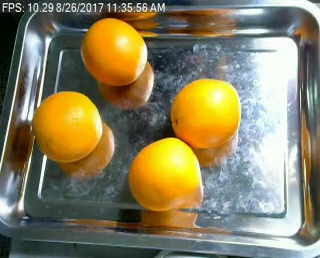Orange: (129, 138, 203, 210), (169, 76, 241, 148), (33, 89, 102, 162), (81, 17, 147, 85)
